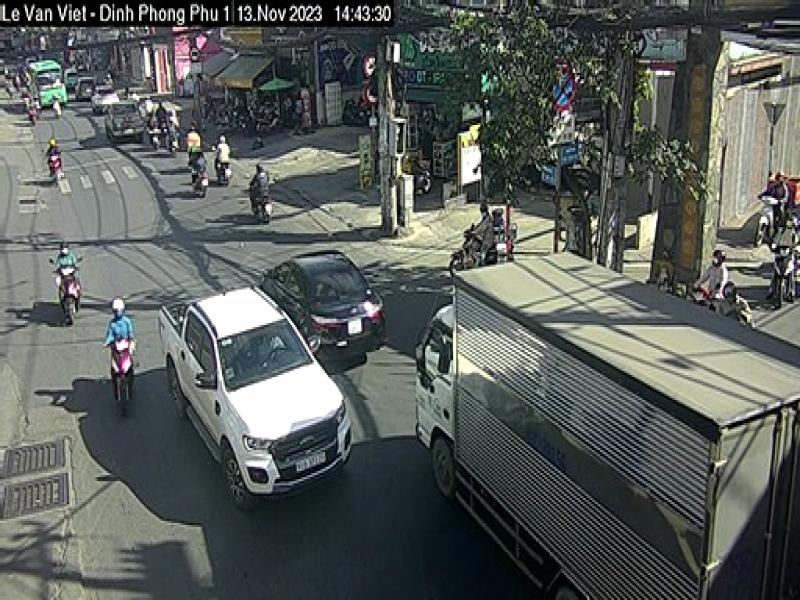truck: (411, 259, 800, 600)
